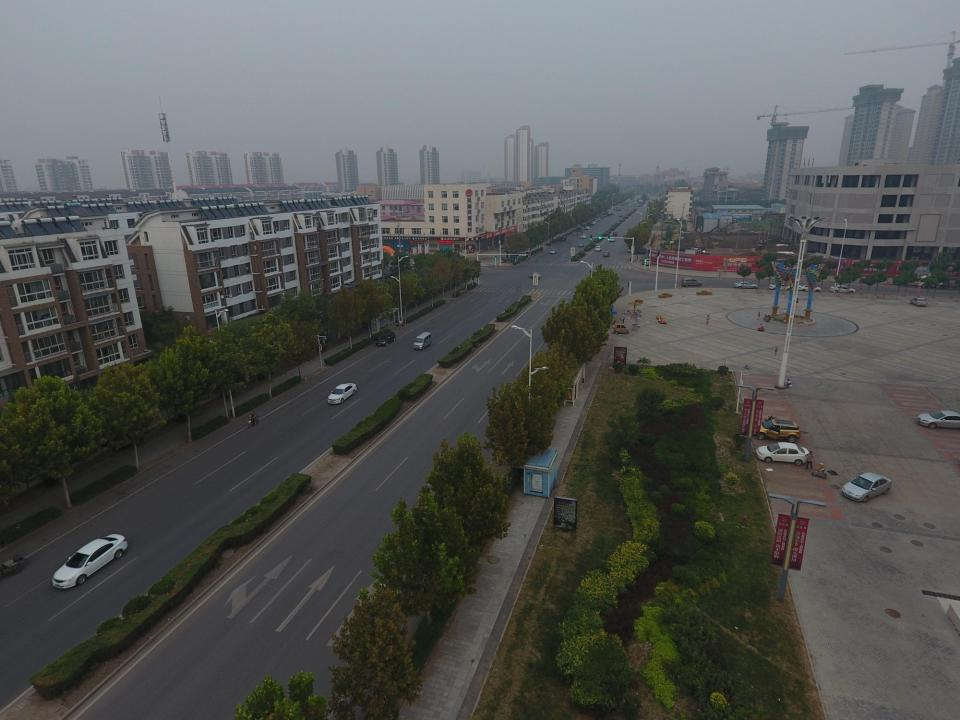car: (52, 534, 127, 588), (841, 472, 892, 502), (756, 442, 809, 466), (755, 415, 801, 442), (916, 410, 960, 428), (327, 383, 357, 404), (375, 331, 396, 346), (830, 285, 856, 293), (734, 281, 758, 289), (798, 284, 822, 292), (769, 283, 791, 291), (681, 278, 702, 286), (910, 298, 928, 306), (528, 272, 541, 278), (517, 252, 527, 257), (640, 248, 646, 254), (584, 224, 590, 230), (560, 236, 566, 242), (550, 249, 557, 254), (595, 246, 602, 251), (524, 249, 532, 253), (612, 231, 618, 236), (609, 237, 615, 242), (580, 234, 586, 239), (578, 242, 584, 247), (603, 252, 610, 256), (590, 221, 597, 224), (592, 218, 597, 222), (600, 214, 604, 218), (597, 216, 600, 221), (618, 214, 622, 217)
truck: (916, 274, 943, 288), (500, 255, 517, 262)
van: (413, 332, 431, 350), (642, 258, 652, 265)
